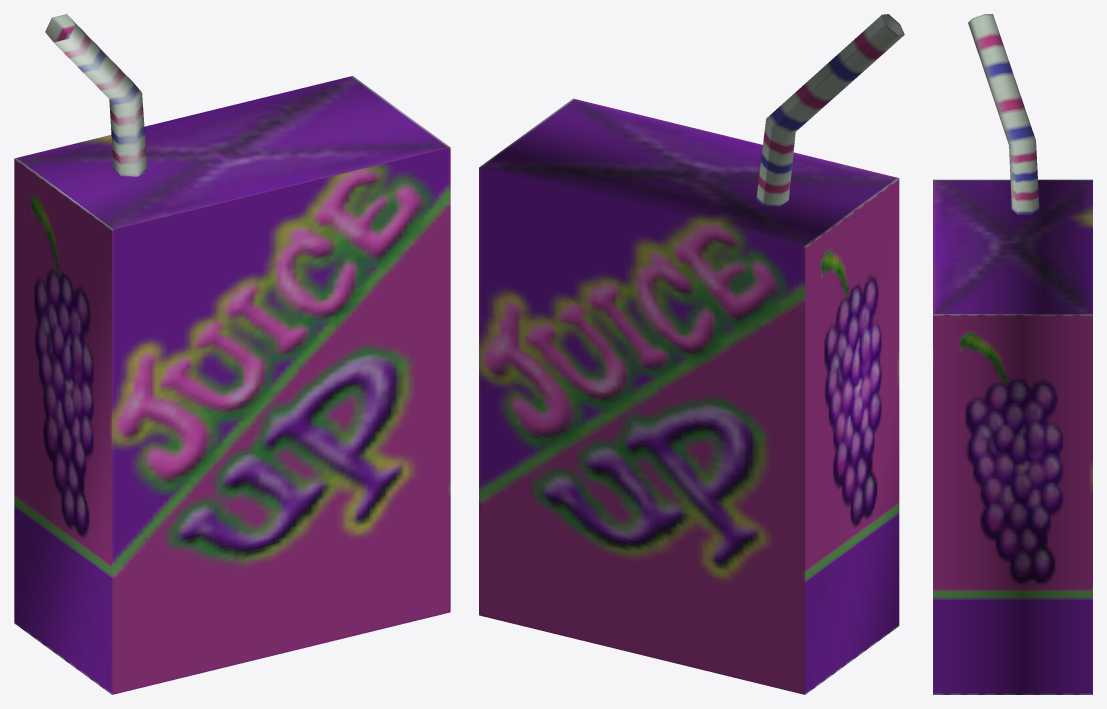
The model's file is game_icon.ico.obj.
3 views of the same model, side by side, from view 1: azimuth 30°, elevation 25°; view 2: azimuth 150°, elevation 25°; view 3: azimuth 270°, elevation 25° (orthographic). The views are drawn at different scales.
Bounding box in the file's own units: 2.64 × 4.49 × 1.2.
Materials: 1 (1 with a texture image).
